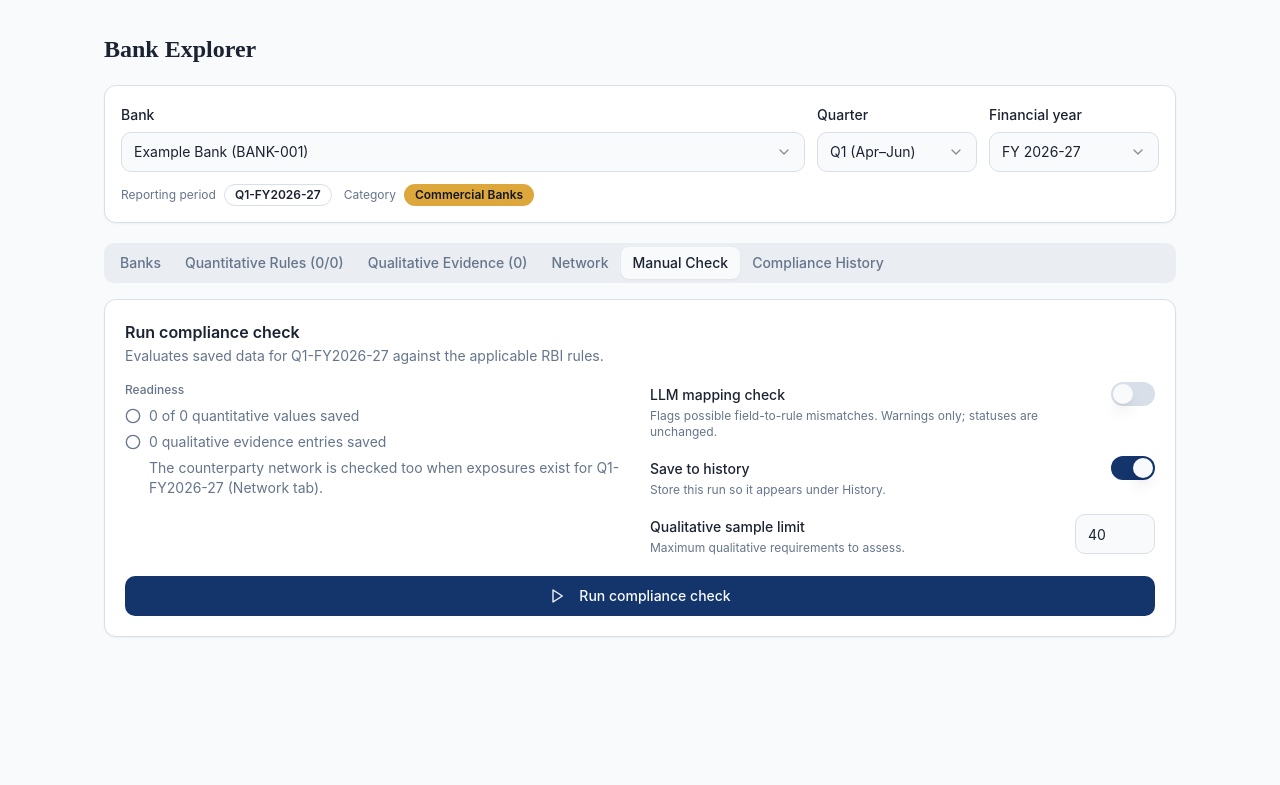
CompliancePage › runs a check and displays backend statuses verbatim (no client-side recomputation)
Click the button "Run compliance check": x=640, y=596 [125,576,1155,616]
(page scrolled)
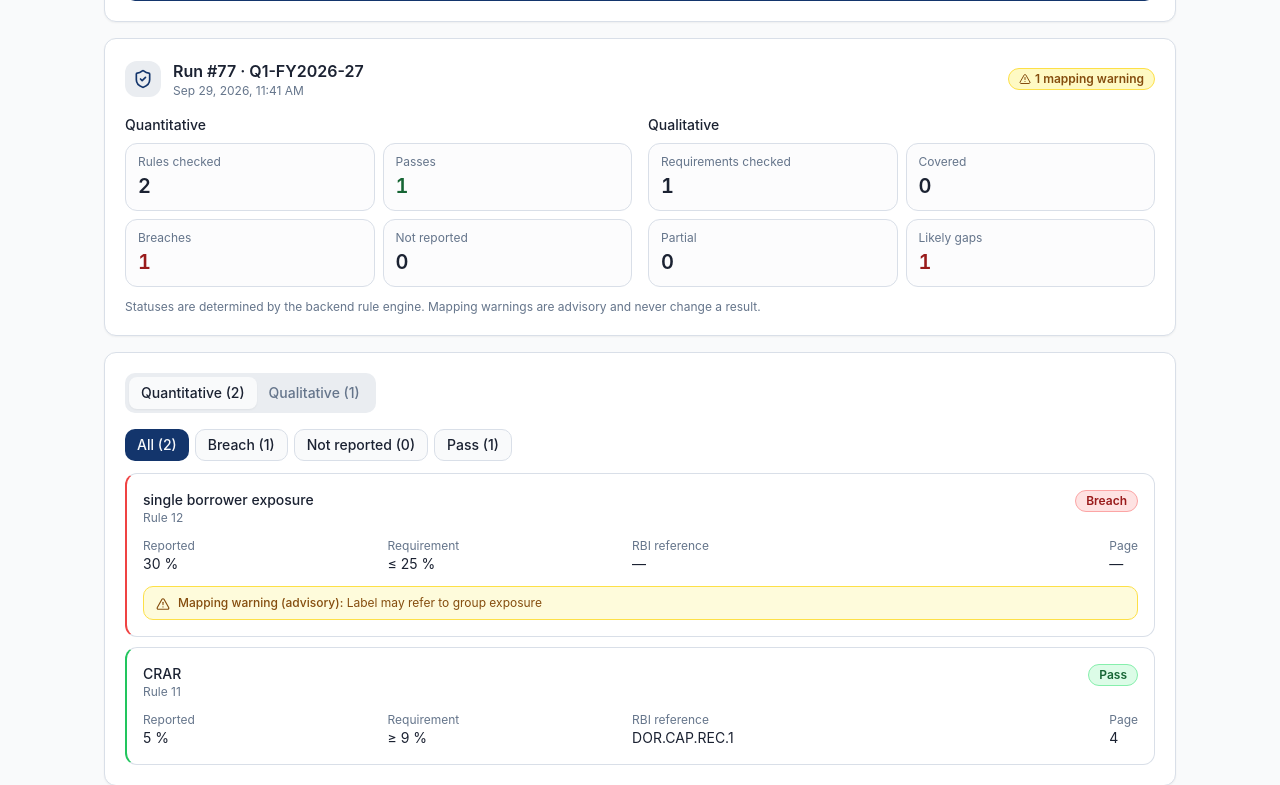
Check: the heading "Run #77 · Q1-FY2026-27" is shown, box [173,59,364,83]
Check: the text "Pass" is shown, box [1088,664,1138,686]
Check: the text "≥ 9 %" is shown, box [388,729,427,746]
Click the button "Qualitative (1)": x=314, y=393 [257,377,372,409]
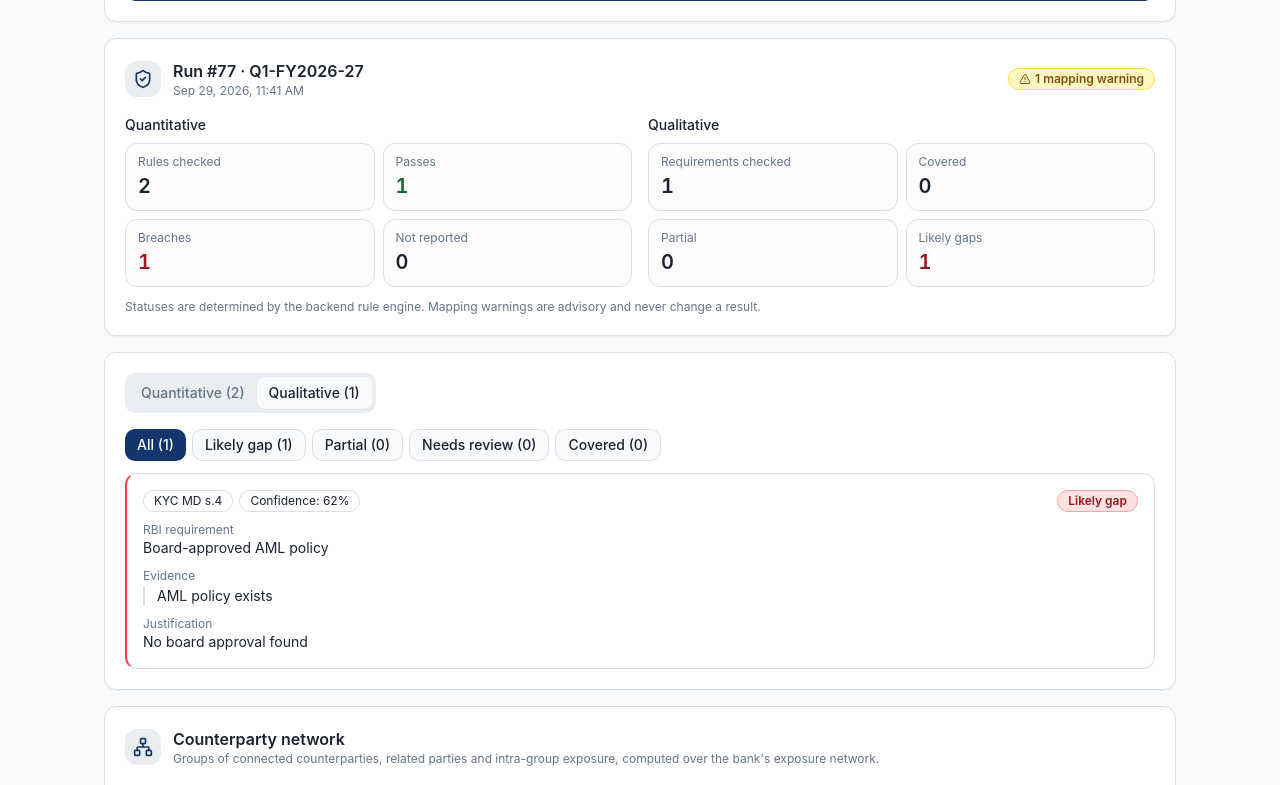
Check: the text "Board-approved AML policy" is shown, box [143,539,328,556]
Check: the text "No board approval found" is shown, box [143,633,308,650]
Check: the text "Confidence: 62%" is shown, box [239,490,360,512]
